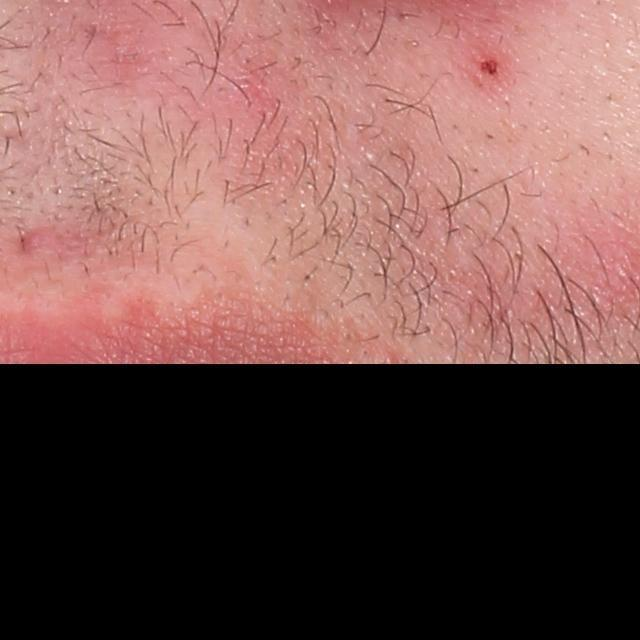papule: (19, 225, 49, 253)
